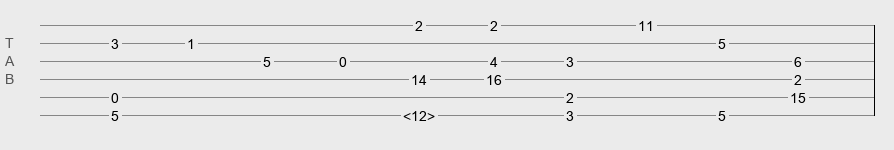0: (111, 90, 119, 100), (339, 54, 347, 64)
1: (187, 36, 195, 46)
11: (638, 18, 654, 28)
14: (411, 72, 427, 82)
15: (790, 90, 806, 100)
16: (486, 72, 502, 82)
2: (415, 18, 423, 28), (490, 18, 498, 28), (566, 90, 574, 100), (794, 72, 802, 82)
3: (111, 36, 119, 46), (566, 54, 574, 64), (566, 108, 574, 118)
4: (490, 54, 498, 64)
5: (111, 108, 119, 118), (263, 54, 271, 64), (718, 108, 726, 118), (718, 36, 726, 46)
6: (794, 54, 802, 64)
harmonic: (403, 108, 435, 118)
